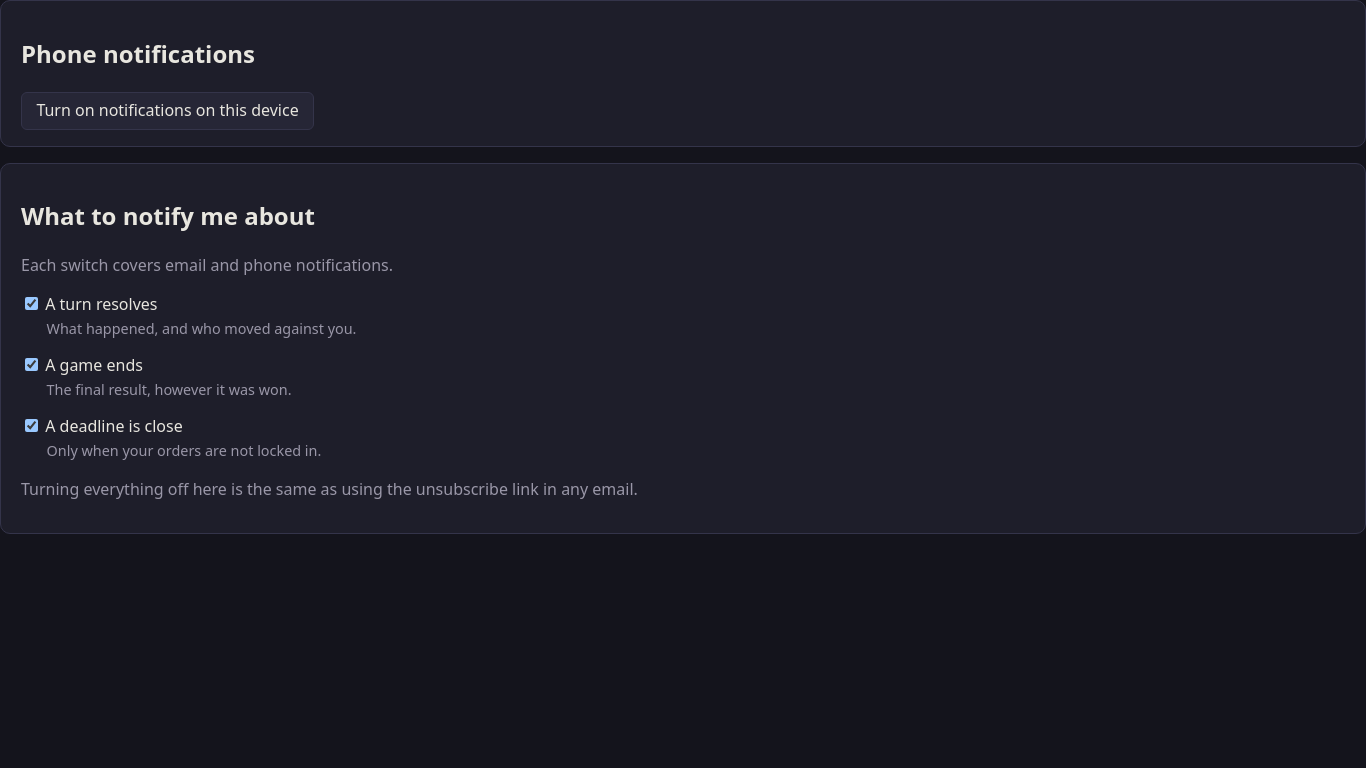
Test case: Settings › phone notifications › turns notifications on from the button
Click the button "Turn on notifications on this device". click: (168, 111)
box: [21,92,314,130]
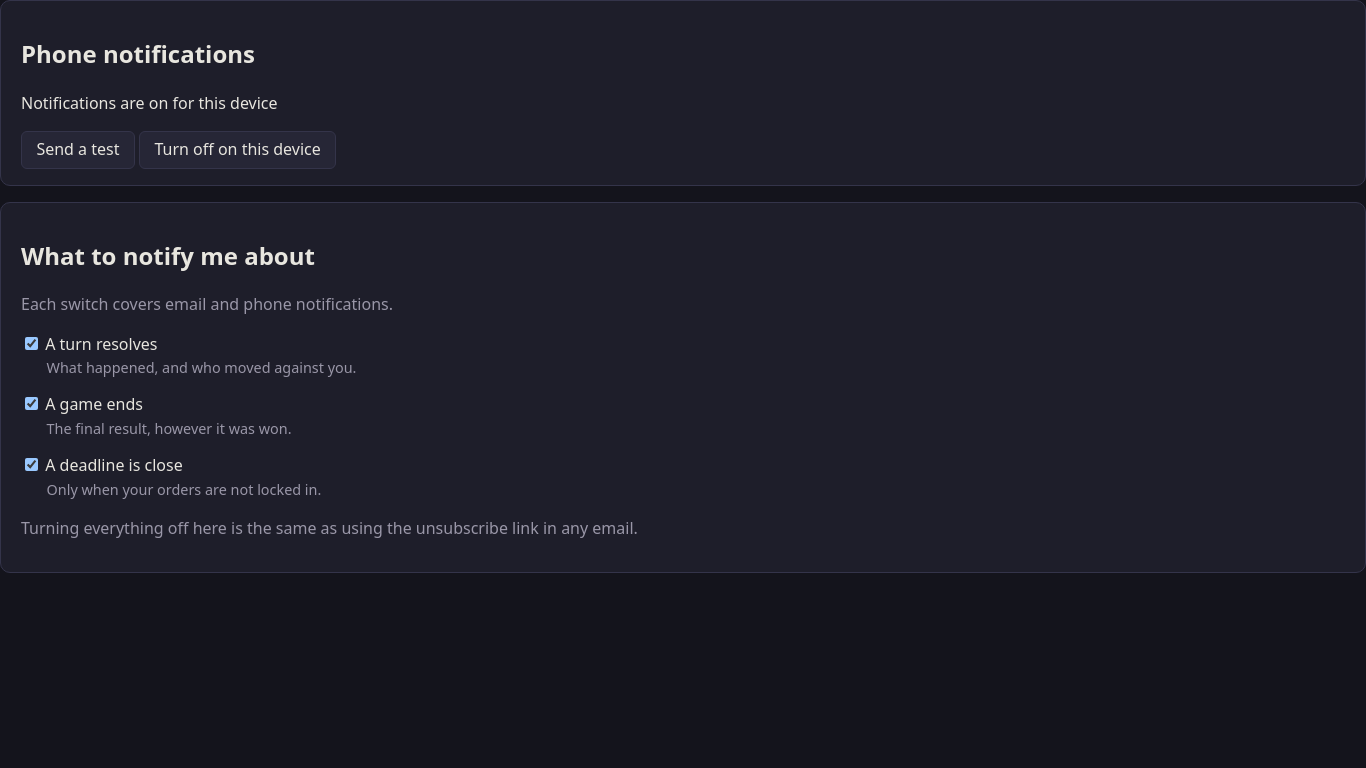
Expected: the text "Notifications are on for this device" is shown, [21,92,278,114]
